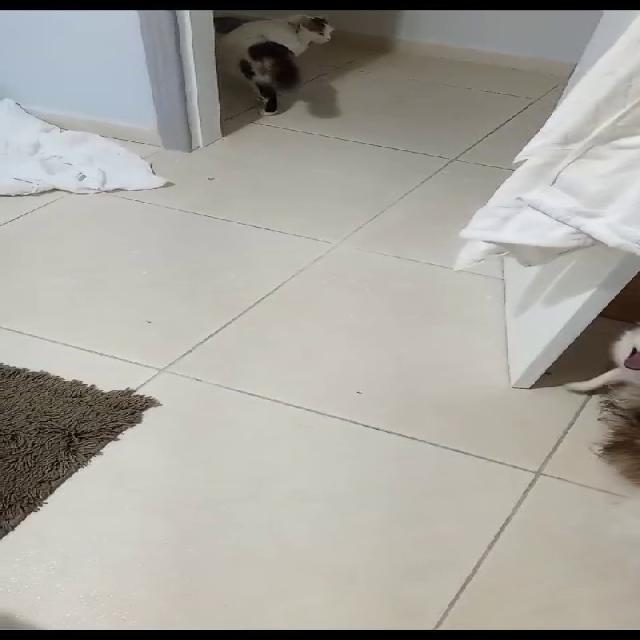Simba: (218, 15, 342, 108)
